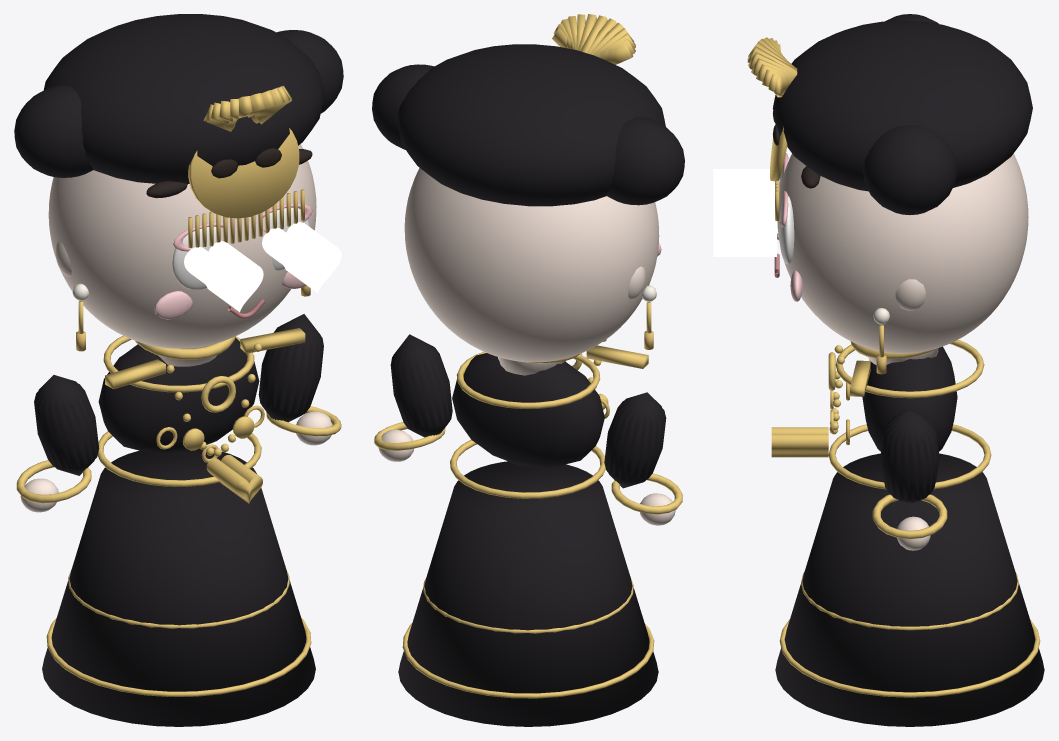
The model's file is character.glb.
The picture shows the model from 3 angles, left to right: view 1: azimuth 30°, elevation 25°; view 2: azimuth 150°, elevation 25°; view 3: azimuth 270°, elevation 25°; orthographic projection. The views are drawn at different scales.
Visible parts, largest first — view 1: Skirt, Hat, Head, Jacket, HatPuff.L, Mask, Sleeve.L, Sleeve.R, EyeHeart.L, EyeHeart.R, SkirtGold.2, HatPuff.R (+15 smaller); view 2: Skirt, Head, Hat, Jacket, HatPuff.L, Sleeve.R, Sleeve.L, HatPuff.R, SkirtGold.2, TrimHem, TrimChest, Cuff.L (+6 smaller); view 3: Skirt, Head, Hat, HatPuff.R, Jacket, Sleeve.R, EyeHeart.R, EyeHeart.L, SkirtGold.2, PendantHeart, TrimHem, TrimChest (+7 smaller).
Boxes of the visible parts, box(x1,y1,x2,y2) form: Skirt: box(42, 448, 315, 726); Hat: box(43, 14, 324, 183); Head: box(48, 144, 316, 348); Jacket: box(98, 337, 259, 454); HatPuff.L: box(14, 85, 93, 177); Mask: box(188, 128, 299, 218); Sleeve.L: box(34, 375, 99, 475); Sleeve.R: box(258, 314, 323, 422); EyeHeart.L: box(184, 241, 263, 312); EyeHeart.R: box(262, 222, 341, 292); SkirtGold.2: box(46, 617, 311, 696); HatPuff.R: box(276, 30, 343, 113); Skirt: box(398, 461, 658, 726); Head: box(404, 168, 659, 362); Hat: box(397, 44, 665, 206); Jacket: box(452, 353, 604, 468); HatPuff.L: box(606, 117, 684, 205); Sleeve.R: box(390, 334, 452, 437); Sleeve.L: box(604, 392, 666, 488); HatPuff.R: box(372, 64, 434, 149); SkirtGold.2: box(402, 623, 654, 698); TrimHem: box(450, 440, 605, 498); TrimChest: box(456, 352, 600, 408); Cuff.L: box(611, 473, 682, 514); Skirt: box(775, 453, 1044, 726); Head: box(777, 153, 1028, 353); Hat: box(773, 20, 1032, 191); HatPuff.R: box(863, 125, 957, 214); Jacket: box(862, 346, 957, 451); Sleeve.R: box(880, 411, 939, 503); EyeHeart.R: box(713, 206, 776, 256); EyeHeart.L: box(713, 169, 774, 206); SkirtGold.2: box(779, 619, 1040, 697); PendantHeart: box(771, 427, 828, 457); TrimHem: box(828, 424, 991, 489); TrimChest: box(835, 339, 984, 398).
Bounding box in the file's own units: 1.02 × 1.99 × 0.935.
